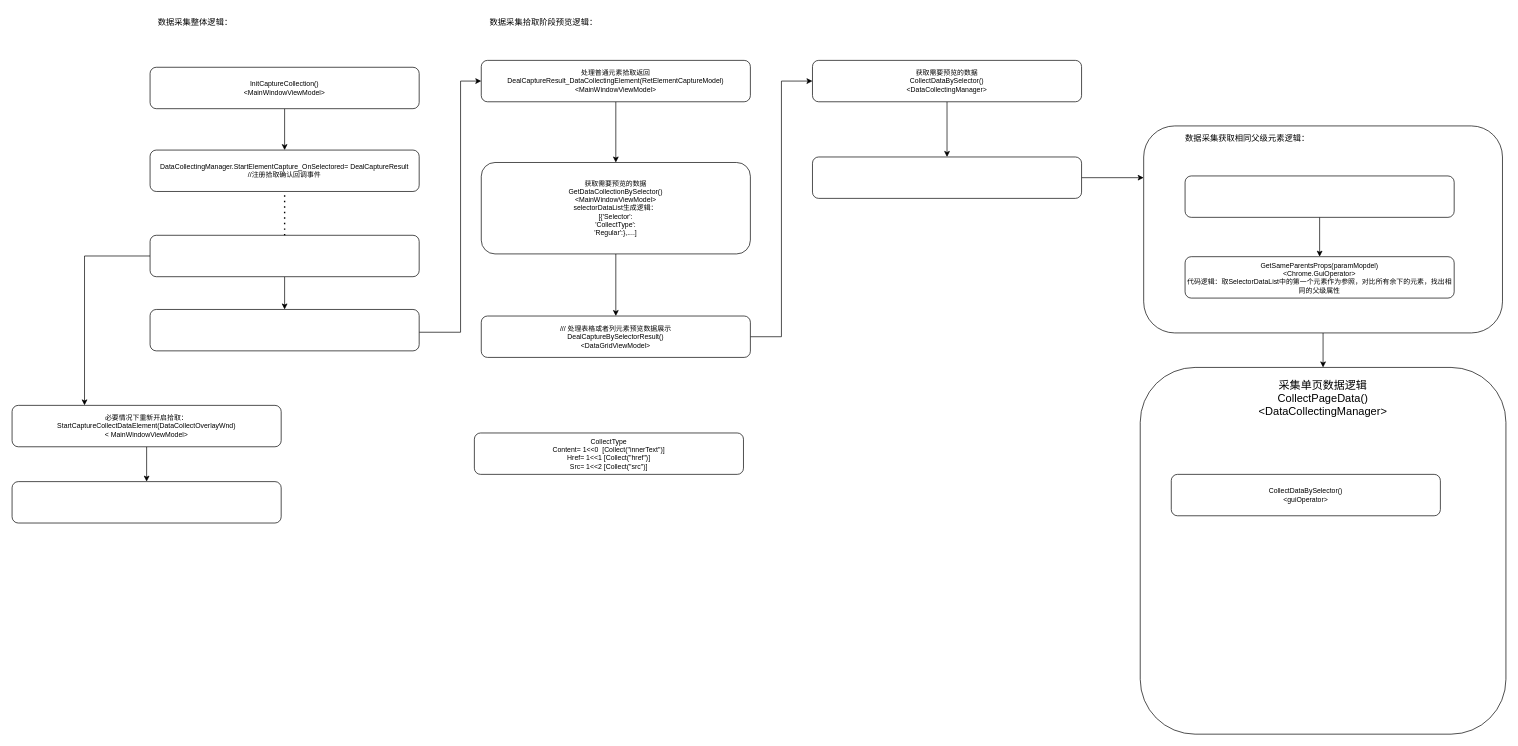
The diagram is 1518 pixels wide and 746 high, and some of its shapes have lost their labels. Each missing label, with the box of its shape:
! paramMopdel.IsTable: (812, 156, 1082, 198)
<T1>元素拾取及数据采集元素后处理逻辑： StartElementCapture() < DataCollectingManager>: (11, 481, 281, 523)
CollectDataBySelector() <DataCollectingManager >: (1184, 175, 1454, 217)
从DataCollectOverlayWnd.RetCaptureModel中获取拾取到的元素信息 <RetElementCaptureModel>: (149, 309, 419, 351)
处理拾取结果的回调 MainWindowViewModel.DealCaptureResult(DataCollectOverlayWnd): (149, 235, 419, 277)
